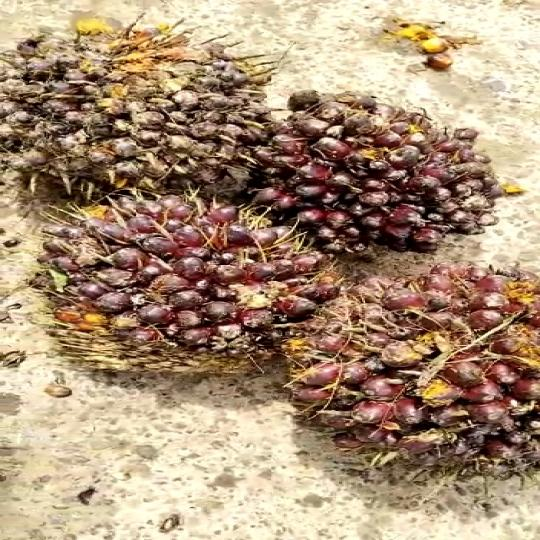kurang masak: (43, 185, 335, 387), (285, 264, 540, 478), (0, 2, 268, 193), (250, 90, 495, 249)
